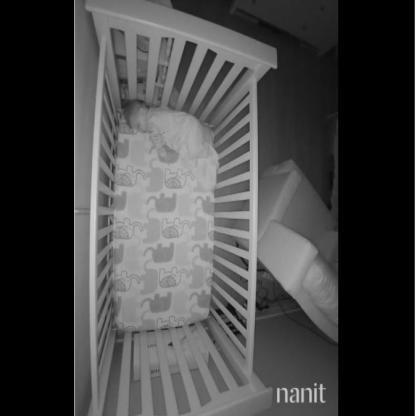baby: (125, 99, 211, 161)
